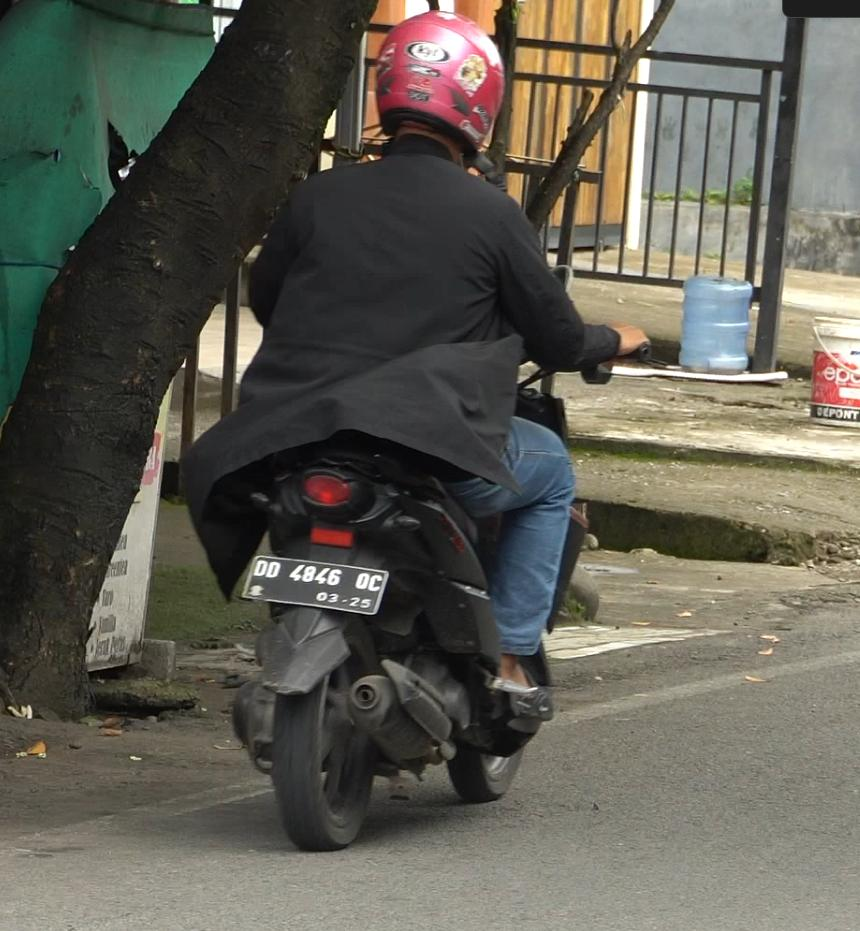number-plate: (240, 552, 391, 612)
